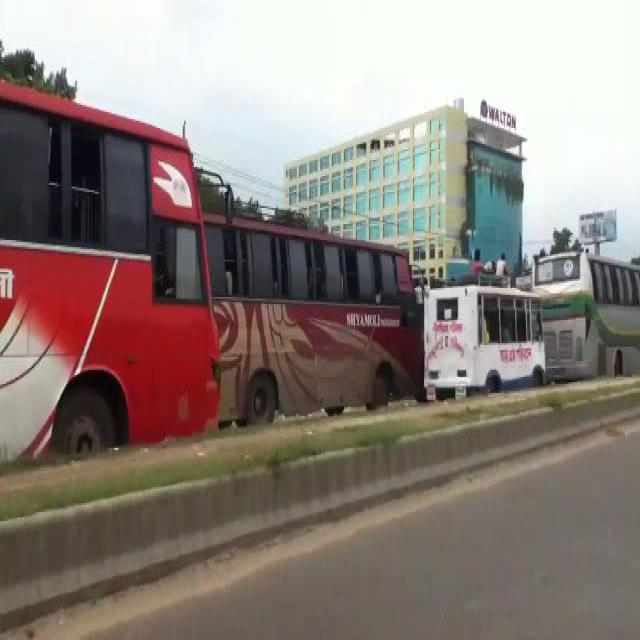bus: (1, 70, 222, 460), (205, 210, 422, 426), (531, 248, 639, 378)
minibus: (422, 280, 550, 403)
